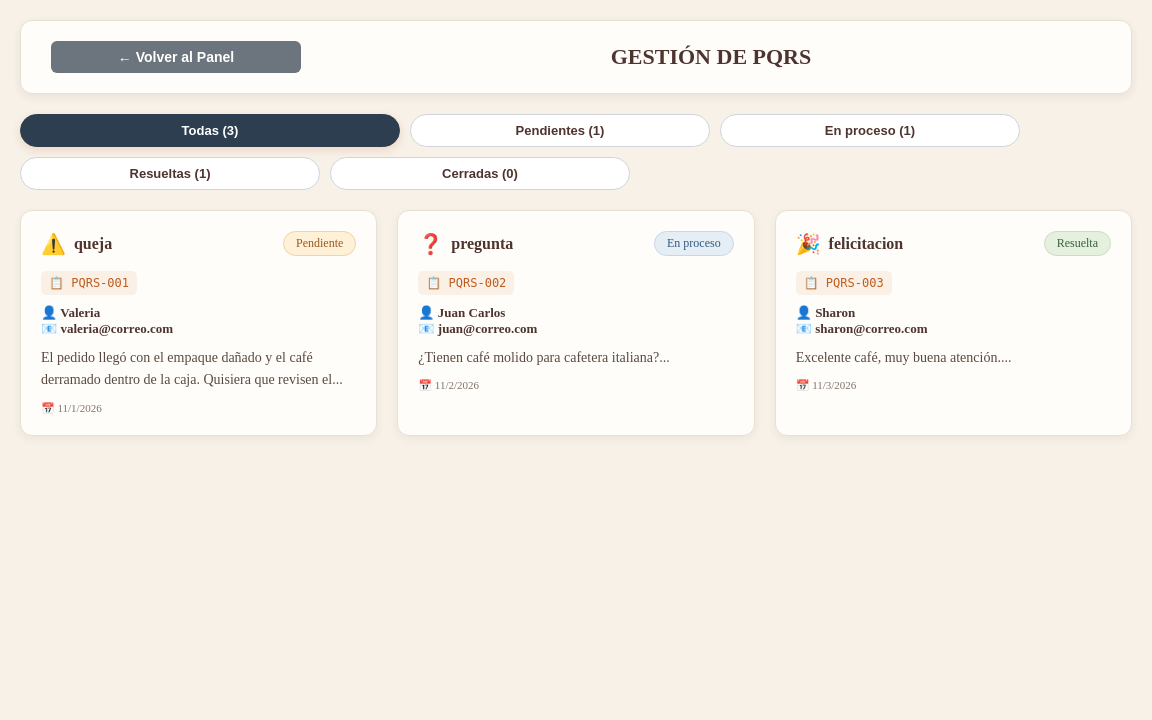
Test: VerPqrs - responder / aprobar › modal › "Cancelar" cierra el modal
This screenshot has width=1152, height=720.
Expected: the heading "GESTIÓN DE PQRS" is shown, [611,44,811,69]
Click the text "📋 PQRS-001": x=89, y=283 [41,271,137,295]
(page scrolled)
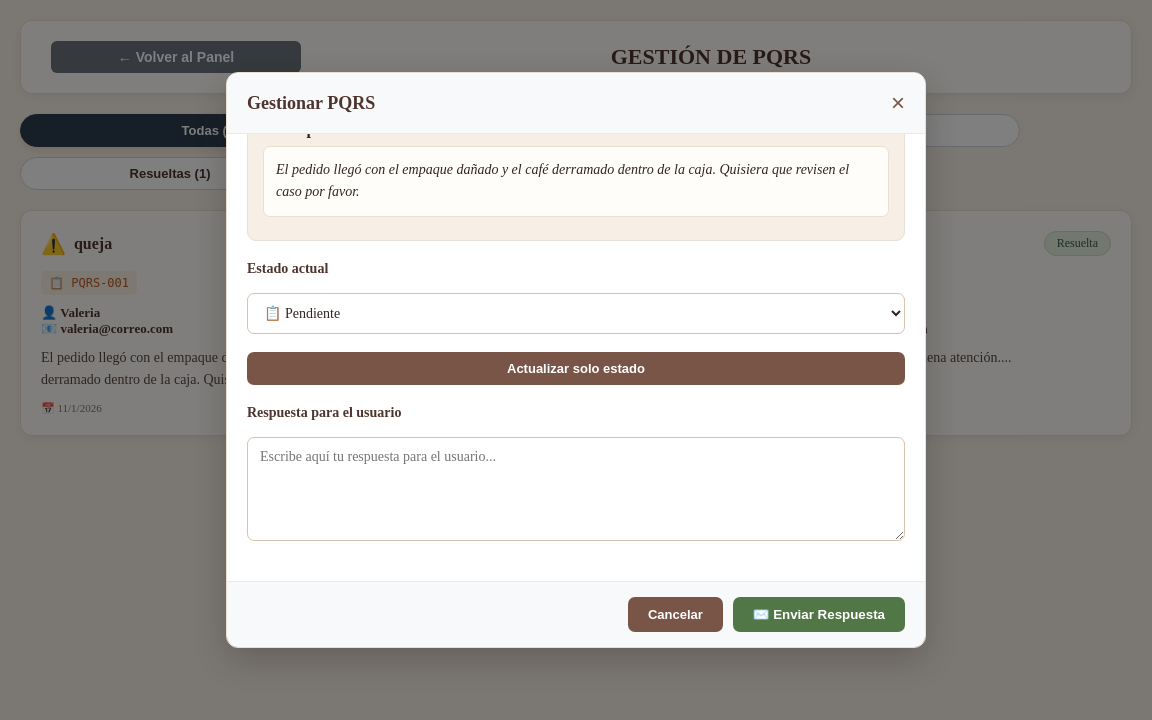
Now the heading "Gestionar PQRS" is shown, box [247,92,375,114]
Click the button "Cancelar": x=675, y=614 [628,597,723,632]
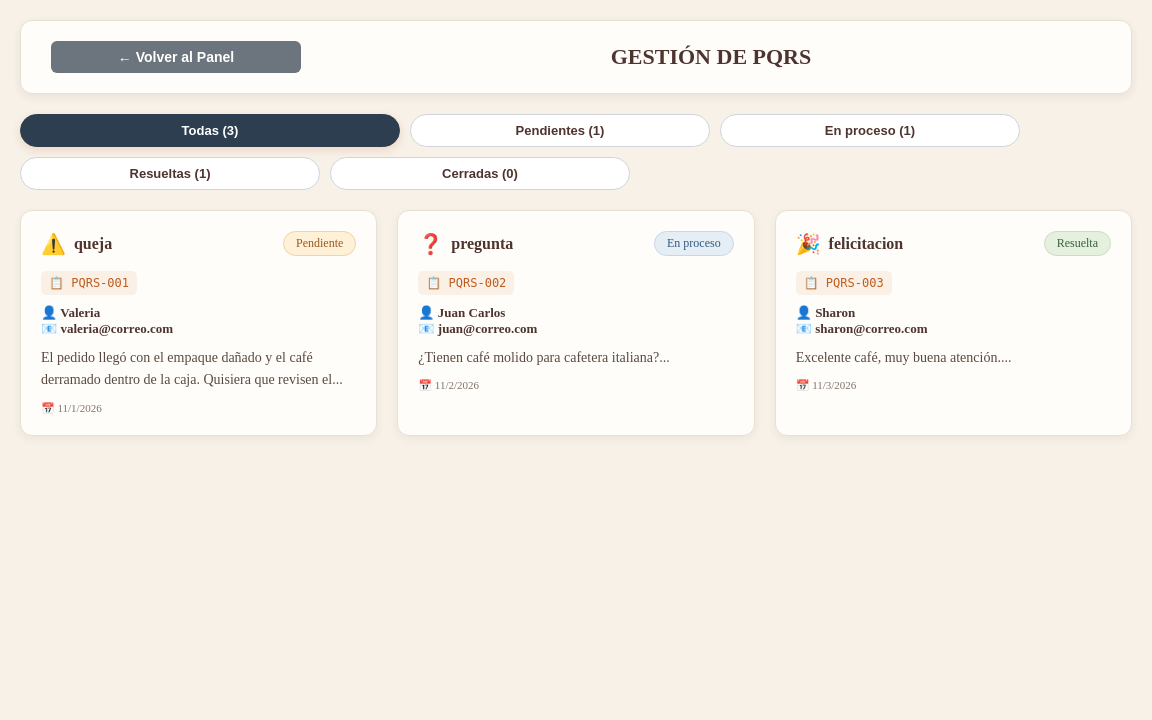
Now the heading "Gestionar PQRS" is gone
